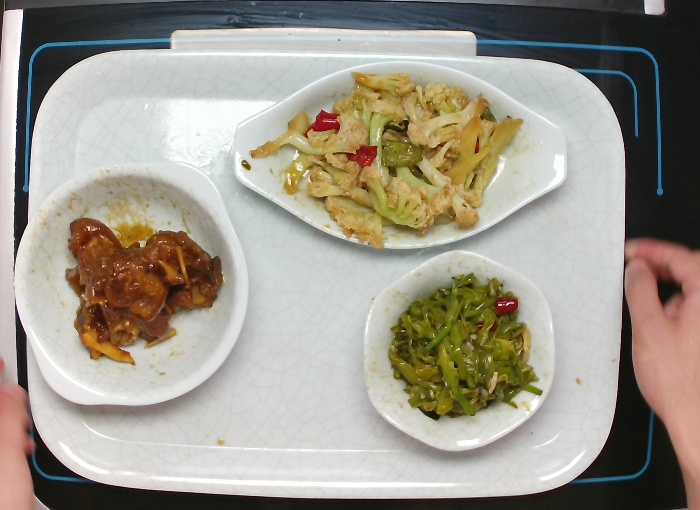JYsf-Shuang_Er_Wan: (10, 158, 251, 410)
JYsf-Yu_Pan: (231, 58, 570, 253)
WCQzf-Hua_Duo_Wan: (361, 248, 557, 455)
